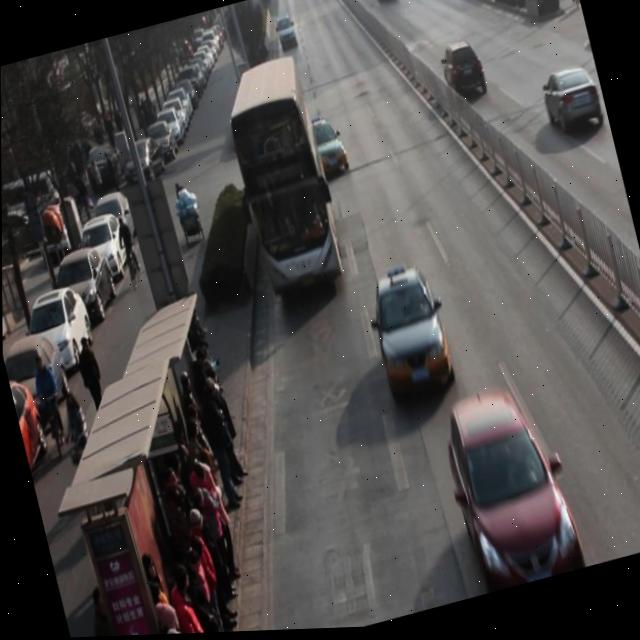car: (432, 377, 587, 600), (364, 268, 458, 407), (538, 64, 605, 144), (436, 39, 489, 108), (300, 117, 352, 186)
van: (218, 52, 347, 296)
